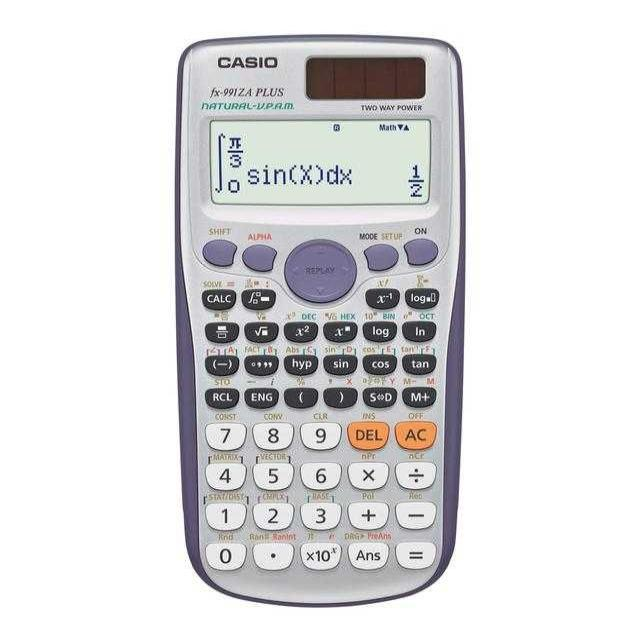Calculator: (173, 33, 465, 607)
